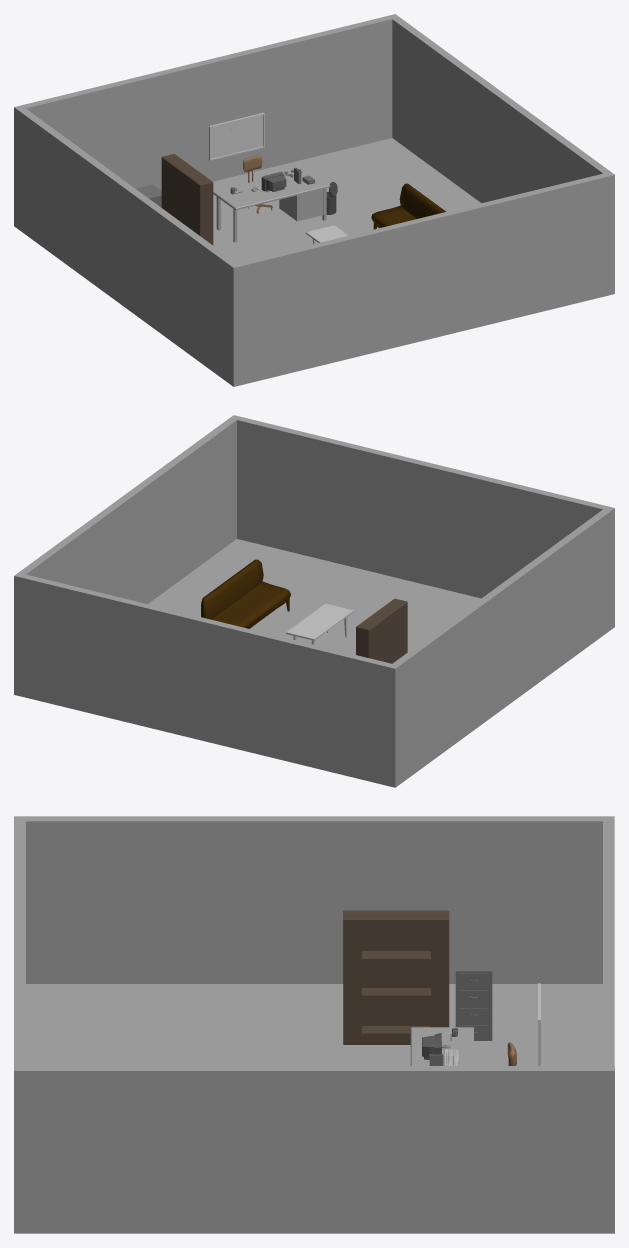
Rendered from Office props.fbx.
3 views of the same model, one above another, from view 1: azimuth 30°, elevation 25°; view 2: azimuth 150°, elevation 25°; view 3: azimuth 270°, elevation 25° (orthographic). The views are drawn at different scales.
Visible parts, largest first — view 1: wall4, wall2, wall3, wall1, floor, bookshelf, desk1, board, couch; view 2: wall2, wall4, wall3, wall1, floor, couch, bookshelf, table_coffee; view 3: wall1, wall3, floor, bookshelf, wall4, shelf2, wall2, desk1.
Boxes of the visible parts, x1=… form: wall4: x1=234, y1=172, x2=614, y2=386; wall2: x1=15, y1=14, x2=398, y2=190; wall3: x1=14, y1=105, x2=238, y2=386; wall1: x1=388, y1=14, x2=614, y2=293; floor: x1=213, y1=138, x2=480, y2=262; bookshelf: x1=161, y1=154, x2=213, y2=245; desk1: x1=213, y1=168, x2=330, y2=242; board: x1=209, y1=112, x2=264, y2=160; couch: x1=371, y1=183, x2=446, y2=229; wall2: x1=17, y1=573, x2=398, y2=787; wall4: x1=230, y1=415, x2=613, y2=598; wall3: x1=392, y1=506, x2=614, y2=787; wall1: x1=14, y1=415, x2=240, y2=696; floor: x1=148, y1=539, x2=480, y2=654; couch: x1=201, y1=559, x2=290, y2=628; bookshelf: x1=356, y1=598, x2=407, y2=663; table_coffee: x1=286, y1=603, x2=353, y2=644; wall1: x1=14, y1=1066, x2=614, y2=1233; wall3: x1=14, y1=816, x2=614, y2=983; floor: x1=26, y1=984, x2=602, y2=1065; bookshelf: x1=343, y1=910, x2=449, y2=1044; wall4: x1=14, y1=817, x2=25, y2=1233; shelf2: x1=455, y1=953, x2=492, y2=1040; wall2: x1=603, y1=817, x2=614, y2=1070; desk1: x1=410, y1=1027, x2=473, y2=1065.
Bounding box in the file's own units: 6933 × 2067 × 6920.
